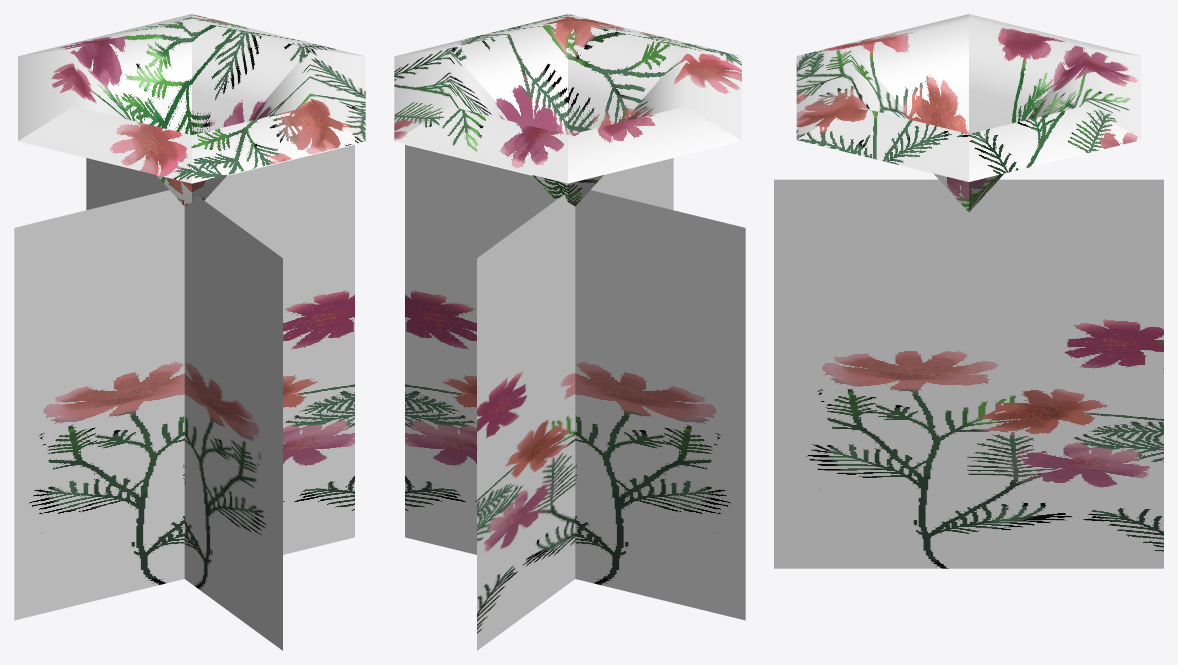
Rendered from lily.fbx.
3 renders of one model, left to right at view 1: azimuth 30°, elevation 25°; view 2: azimuth 150°, elevation 25°; view 3: azimuth 270°, elevation 25°, orthographic.
Parts seen in each view (by area): view 1: pCone3; view 2: pCone3; view 3: pCone3.
Boxes of the visible parts, x1,y1,x2,y2 form: pCone3: (14, 14, 365, 650); pCone3: (394, 14, 745, 650); pCone3: (774, 14, 1163, 568).
Size of the model in its own units: 1.36 by 1.85 by 1.32.
